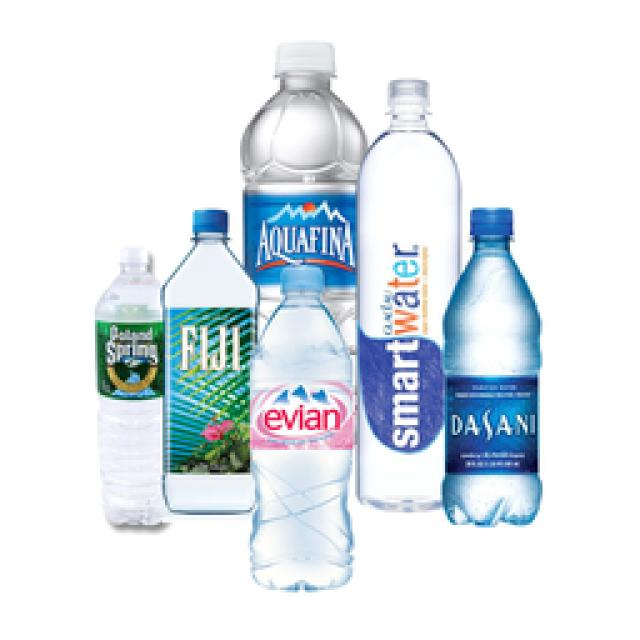plastic_water_bottles: (365, 78, 457, 520), (252, 262, 358, 595), (442, 197, 545, 533), (162, 204, 256, 514), (237, 38, 358, 265), (86, 240, 172, 535)
